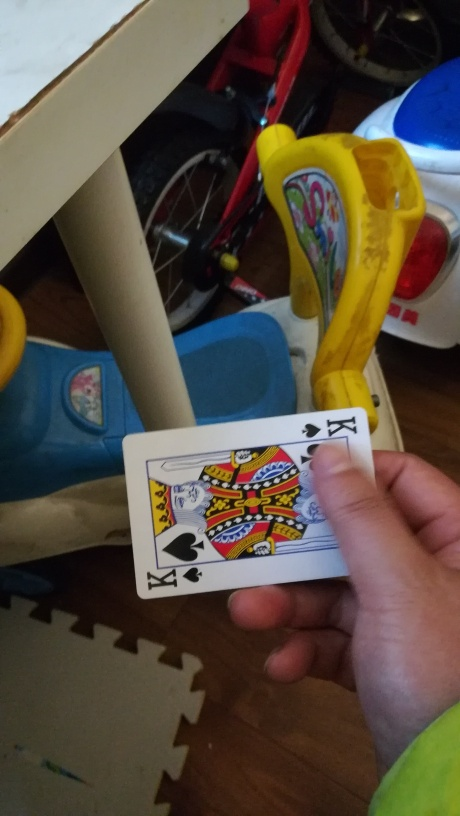ht k: (117, 407, 398, 601)
